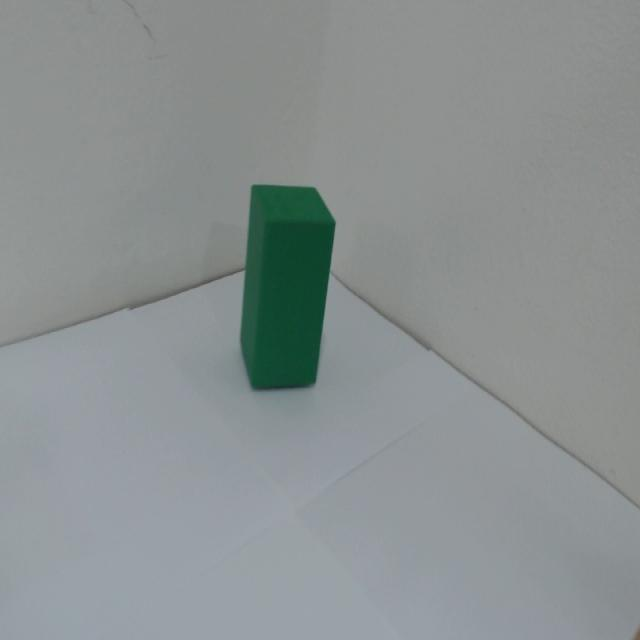cube: (208, 129, 337, 422)
